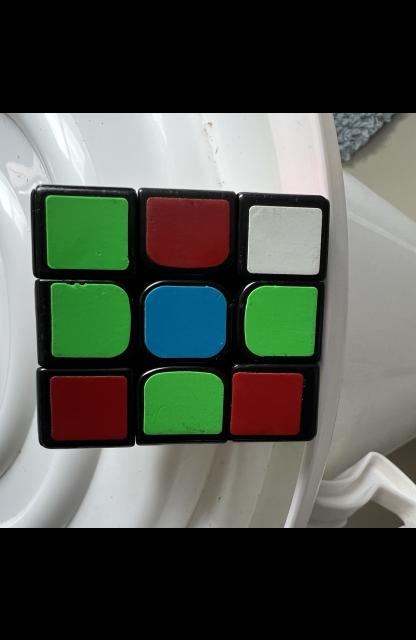Blue: (144, 284, 227, 357)
Green: (46, 194, 129, 269), (50, 282, 130, 357), (244, 284, 318, 356), (143, 370, 224, 434)
Red: (147, 196, 230, 267), (50, 375, 128, 439), (230, 371, 304, 434)
White: (247, 204, 322, 273)
